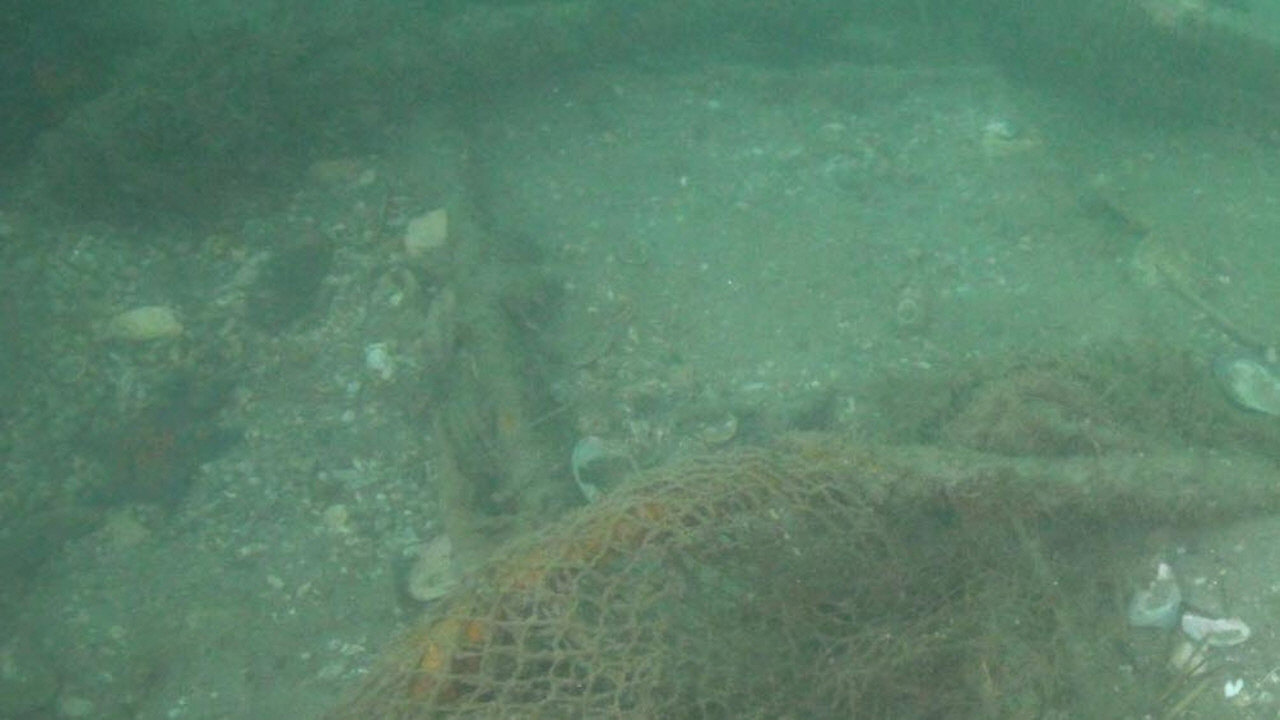fish net: (315, 443, 1060, 720)
